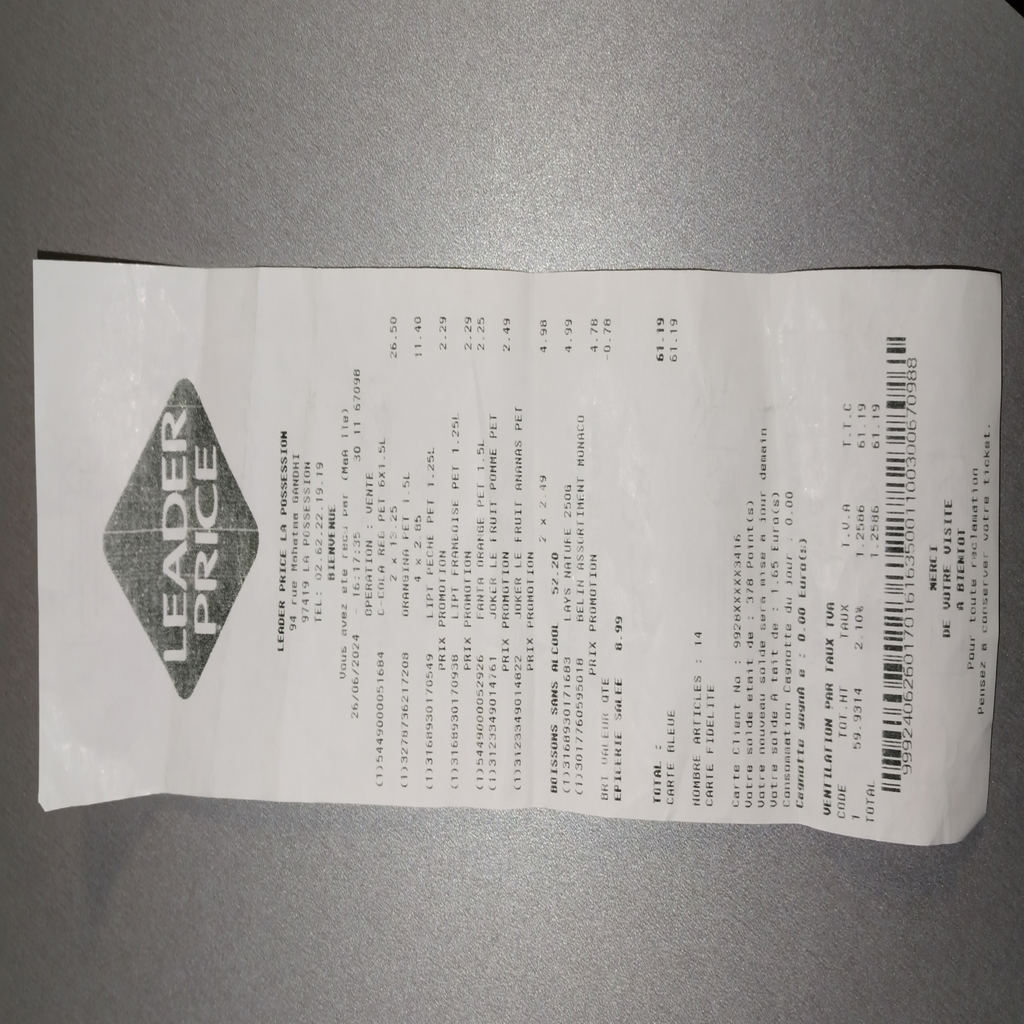recipt: (32, 260, 999, 846)
